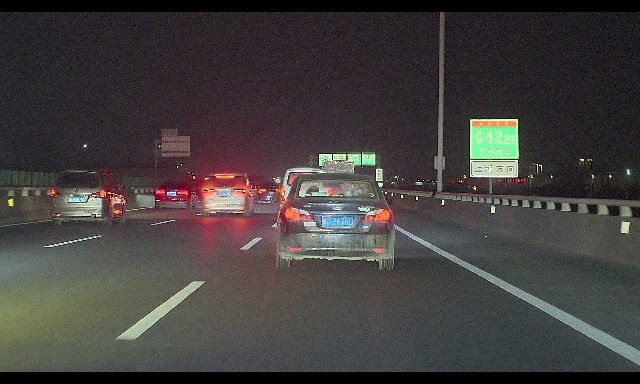car: (270, 172, 395, 270), (49, 168, 127, 226), (201, 172, 257, 217), (279, 167, 328, 218), (155, 181, 198, 210), (255, 182, 285, 205)
truck: (321, 159, 355, 204)
